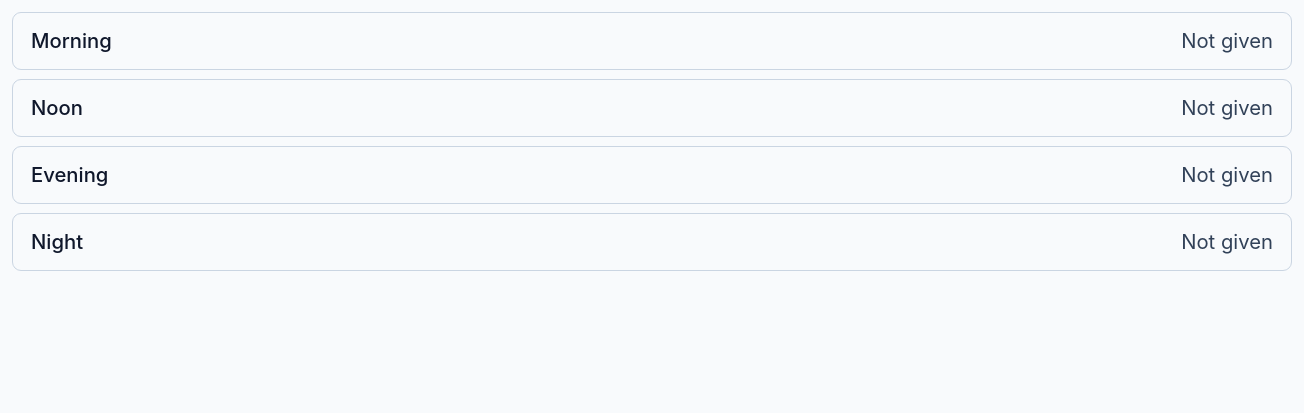
Test case: DoseTimeList freeText variant (non-tablet forms) › shows a decimal dose as a plain number, with no ½ character
Click the button "Morning Not given" at (71, 41), box x1=13 y1=13 x2=1291 y2=69
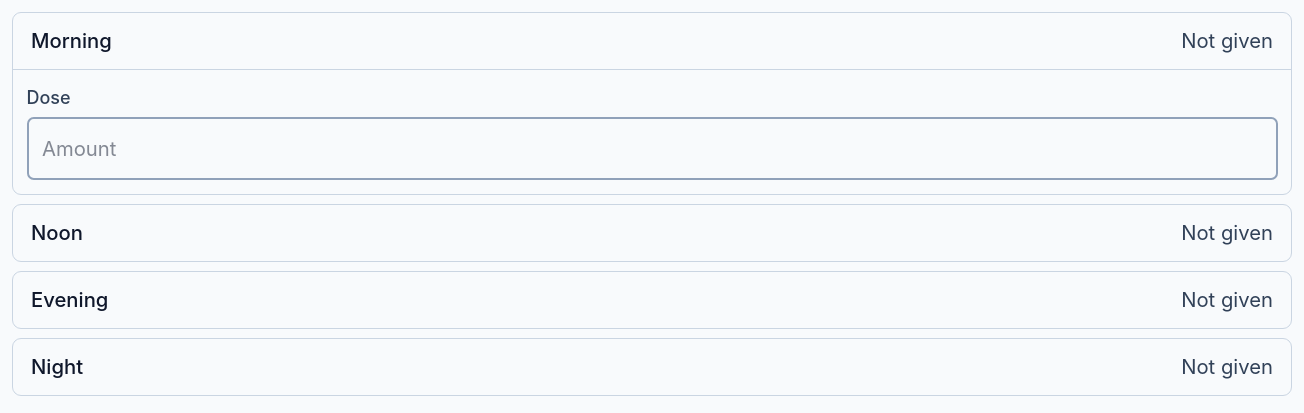
Type "2.5" into the field named "Morning: dose" at (652, 149), box x1=26 y1=117 x2=1278 y2=180
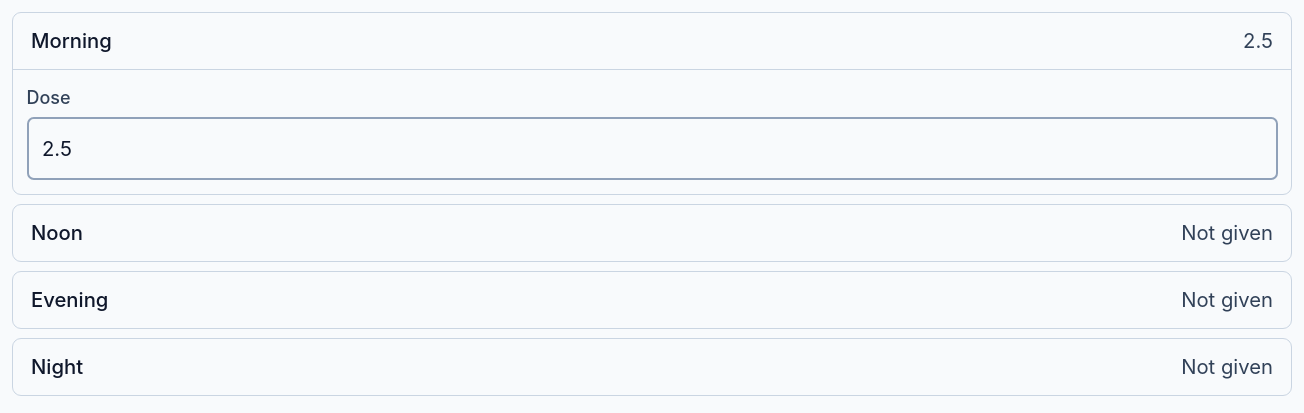
Expected: the button "Morning 2.5" is shown, x1=13 y1=13 x2=1291 y2=69
